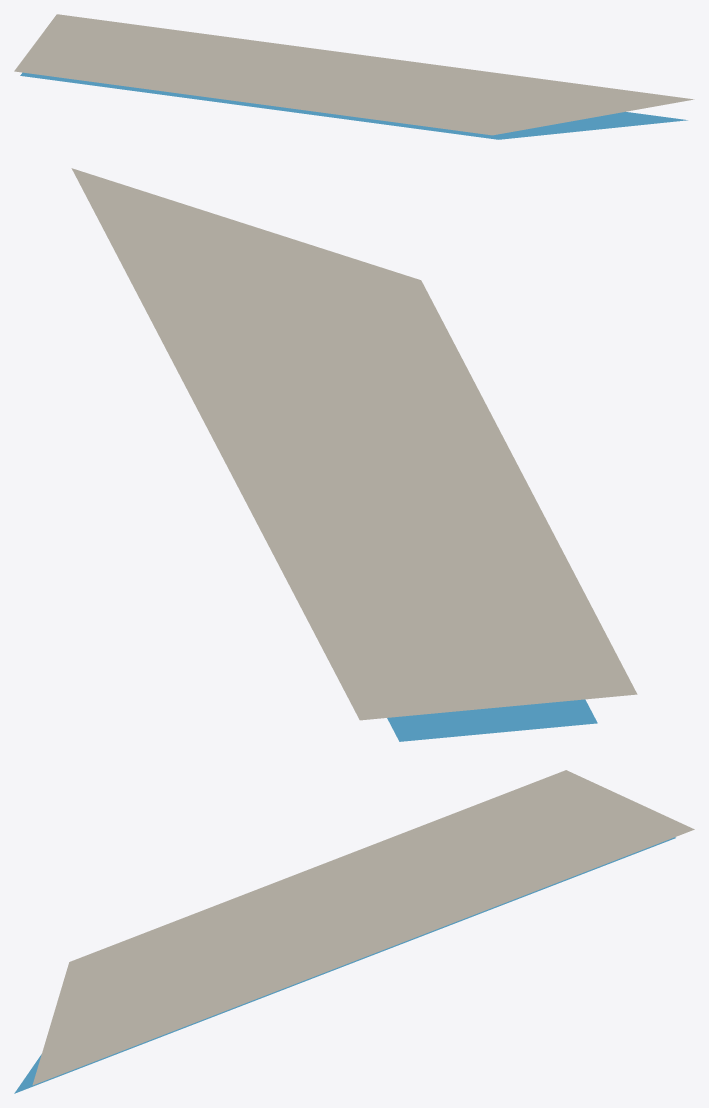
3 views of the same model, one above another, from view 1: azimuth 30°, elevation 25°; view 2: azimuth 150°, elevation 25°; view 3: azimuth 270°, elevation 25° (orthographic). The views are drawn at different scales.
Visible parts, largest first — view 1: estructura_terreno, estructura_agua; view 2: estructura_terreno, estructura_agua; view 3: estructura_terreno, estructura_agua.
Boxes of the visible parts, left/top/right/bottom form: estructura_terreno: left=14, top=14, right=694, bottom=135; estructura_agua: left=20, top=72, right=687, bottom=139; estructura_terreno: left=71, top=168, right=637, bottom=720; estructura_agua: left=387, top=699, right=597, bottom=741; estructura_terreno: left=32, top=770, right=694, bottom=1085; estructura_agua: left=14, top=837, right=675, bottom=1093.
Bounding box in the file's own units: 16.44 × 0.41 × 14.99.
